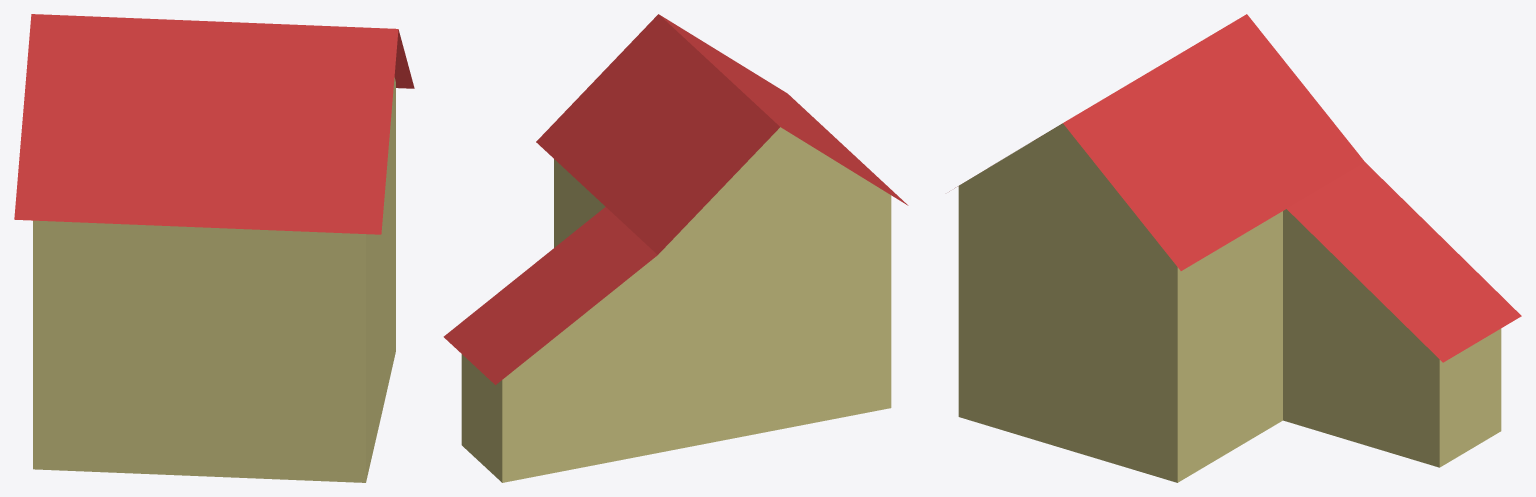
3 views of the same model, side by side, from view 1: azimuth 30°, elevation 25°; view 2: azimuth 150°, elevation 25°; view 3: azimuth 270°, elevation 25° (orthographic). The views are drawn at different scales.
Size of the model in its own units: 14.6 by 19.75 by 12.43.
